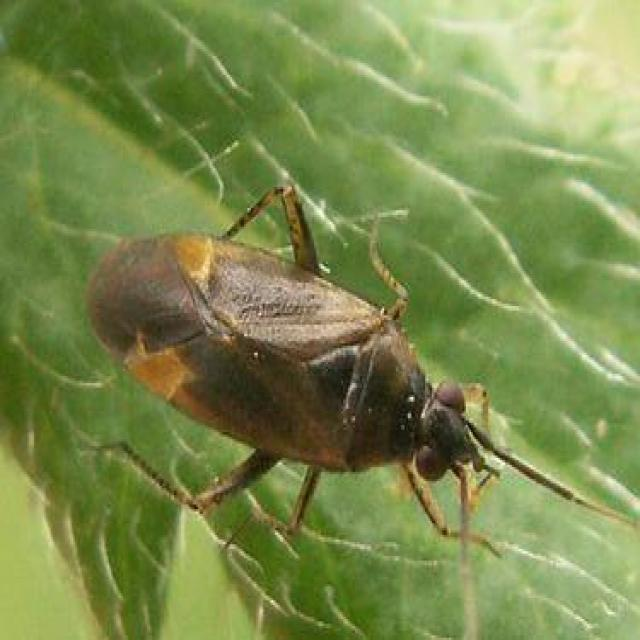Miridae-Adult-: (77, 177, 537, 555)
